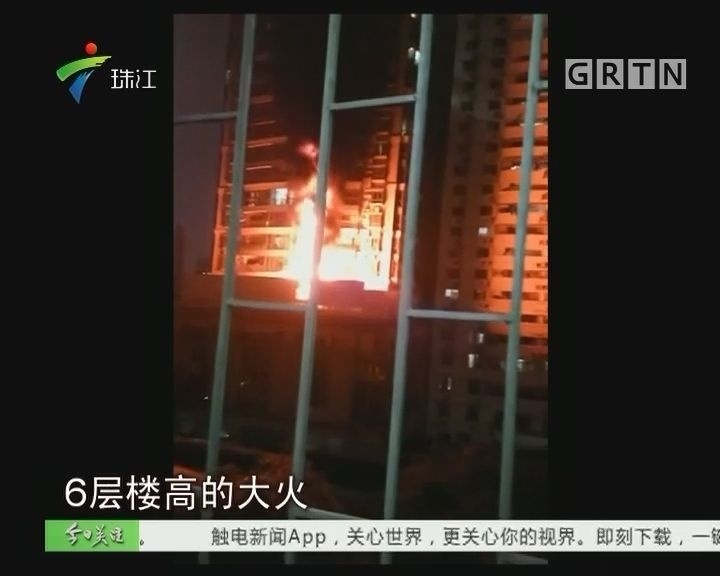fire: (282, 148, 329, 294)
